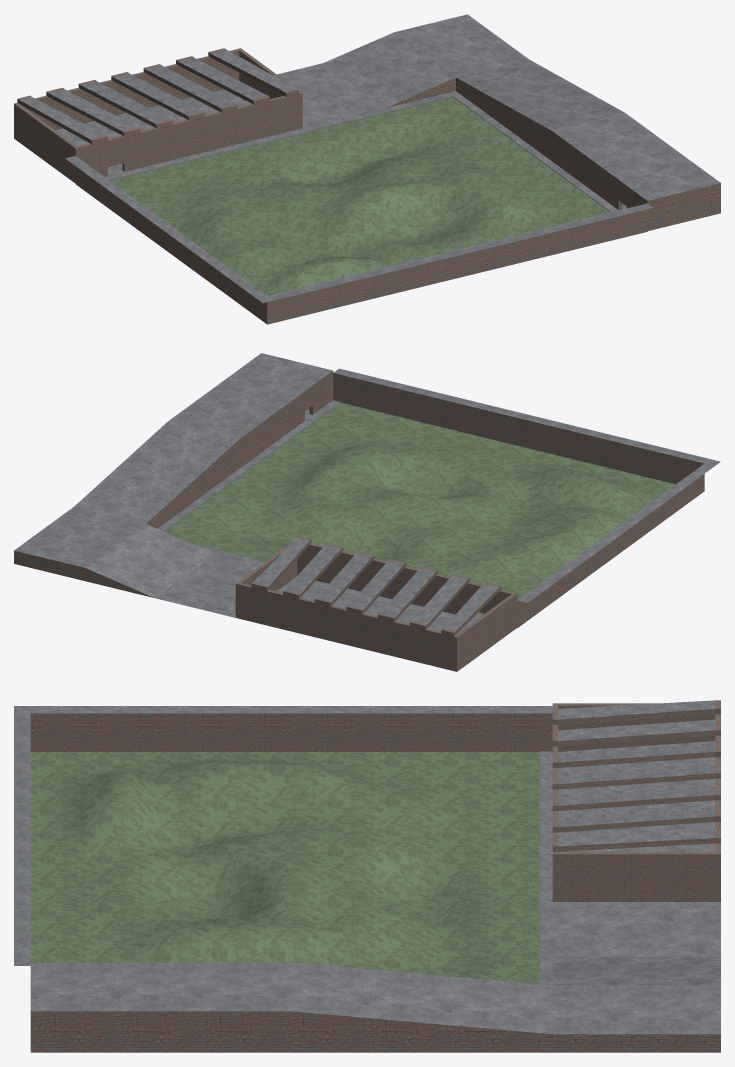
Rendered from scuffed_construct.glb.
3 renders of one model, top to bottom at view 1: azimuth 30°, elevation 25°; view 2: azimuth 150°, elevation 25°; view 3: azimuth 270°, elevation 25°, orthographic. The views are drawn at different scales.
Visible parts, largest first — view 1: grass, ramp, half roof building, wall; view 2: grass, ramp, half roof building, wall; view 3: grass, ramp, half roof building, wall.
Boxes of the visible parts, x1,y1,x2,y2 form: grass: (110, 97, 610, 295); ramp: (277, 14, 720, 230); half roof building: (14, 48, 316, 183); wall: (65, 156, 653, 324); grass: (164, 402, 675, 614); ramp: (14, 353, 340, 615); half roof building: (227, 536, 517, 671); wall: (333, 368, 720, 627); grass: (30, 752, 540, 984); ramp: (30, 908, 720, 1052); half roof building: (540, 700, 720, 908); wall: (14, 706, 552, 965).
Size of the model in its own units: 130 by 13.78 by 126.
Materials: 3 (3 with a texture image).
